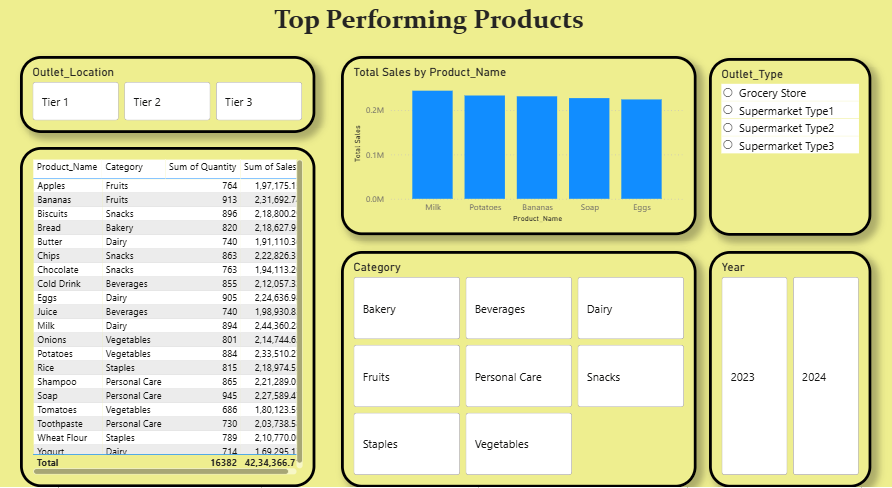

Layout of this report page (visuals, bound fields, positions):
{"tool":"powerbi","page":{"name":"Top Performing Products","canvas":[1280,720],"ordinal":4},"visuals":[{"type":"tableEx","fields":{"Values":["Blinkit.Product_Name","Blinkit.Category","Sum(Blinkit.Quantity)","Sum(Blinkit.Sales)"]},"box":[32,212,422,486],"z":0},{"type":"clusteredColumnChart","fields":{"Category":["Blinkit.Product_Name"],"Y":["Blinkit.Total Sales"]},"box":[490,82,508,256],"z":1},{"type":"advancedSlicerVisual","fields":{"Values":["Blinkit.Outlet_Location"]},"box":[32,82,422,110],"z":2},{"type":"advancedSlicerVisual","fields":{"Values":["Blinkit.Category"]},"box":[490,360,508,338],"z":3},{"type":"listSlicer","fields":{"Values":["Blinkit.Outlet_Type"]},"box":[1016,84,232,254],"z":4},{"type":"advancedSlicerVisual","fields":{"Values":["Blinkit.Order_Date.Variation.Date Hierarchy.Year"]},"box":[1016,360,232,338],"z":5},{"type":"textbox","box":[100,0,1032,66],"z":6}]}

Visuals, with their boxes in screenshot pixels (x1, y1, x2, y2), scaled from the page's 1280x720 canvas onto the 892x488 screenshot:
tableEx - Blinkit.Product_Name x Blinkit.Category: <region>22, 144, 316, 473</region>
clusteredColumnChart - Blinkit.Product_Name x Blinkit.Total Sales: <region>341, 56, 695, 229</region>
advancedSlicerVisual - Blinkit.Outlet_Location: <region>22, 56, 316, 130</region>
advancedSlicerVisual - Blinkit.Category: <region>341, 244, 695, 473</region>
listSlicer - Blinkit.Outlet_Type: <region>708, 57, 870, 229</region>
advancedSlicerVisual - Blinkit.Order_Date.Variation.Date Hierarchy.Year: <region>708, 244, 870, 473</region>
textbox: <region>70, 0, 789, 45</region>
